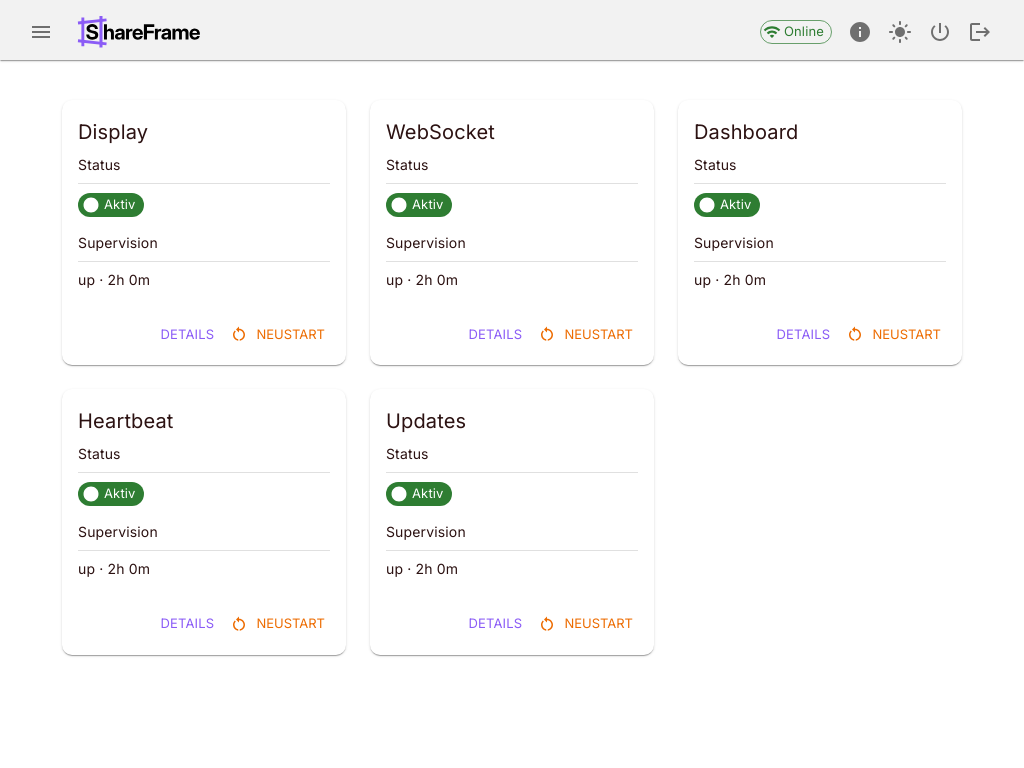
Test: services overview › warns that restarting the dashboard drops the connection
Click the button "Neustart" below "Dashboard" at (895, 334), box 843,319 -> 946,350
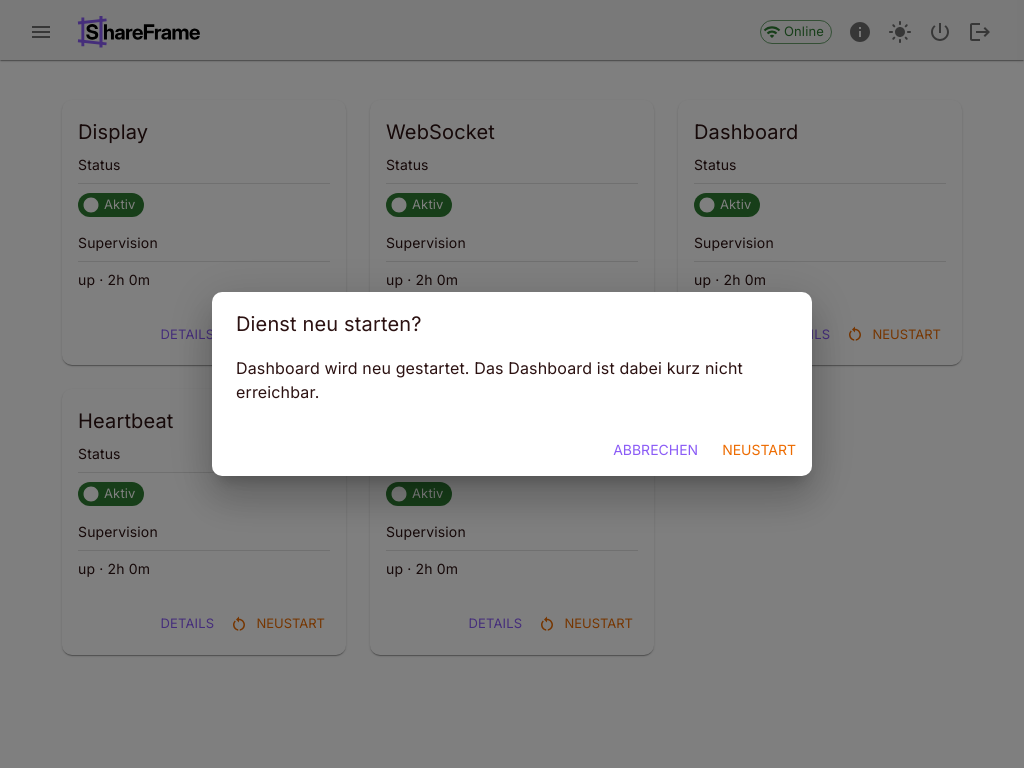
Check: the text "Das Dashboard ist dabei kurz nicht erreichbar" is shown, box 236,358 -> 743,402
